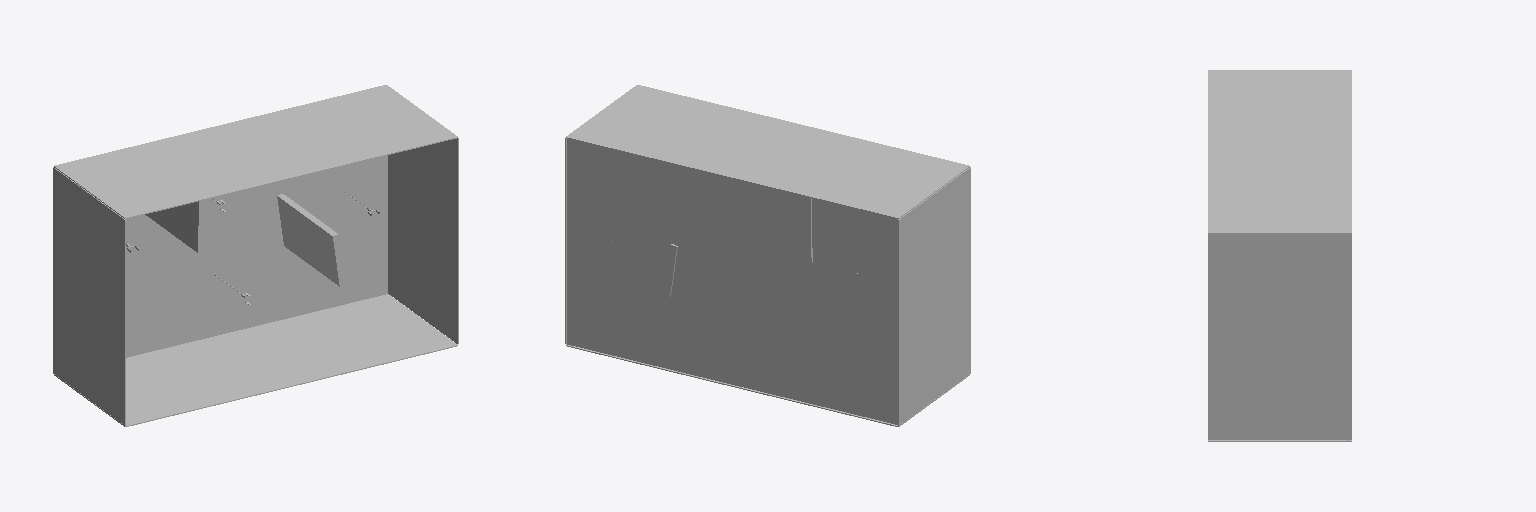
Rendered from LAAS_indoor_rings_gaz.obj.
3 renders of one model, left to right at view 1: azimuth 30°, elevation 25°; view 2: azimuth 150°, elevation 25°; view 3: azimuth 270°, elevation 25°, orthographic.
Parts seen in each view (by area): view 1: Cube_Cube.007, Wall3_Cube.004, Wall4_Cube.005, Wall2_Cube.003, Wall2.001_Cube.006, Obsatcle2_Cube.010, Obsatcle1_Cube; view 2: Cube_Cube.007, Wall3_Cube.004, Wall2_Cube.003, Wall4_Cube.005; view 3: Wall2.001_Cube.006, Wall3_Cube.004.
Part boxes in pixels (x1,y1,x2,y2): Cube_Cube.007: (126,155,387,357); Wall3_Cube.004: (54,85,457,218); Wall4_Cube.005: (54,294,457,426); Wall2_Cube.003: (53,167,125,425); Wall2.001_Cube.006: (388,138,458,343); Obsatcle2_Cube.010: (277,194,345,286); Obsatcle1_Cube: (145,200,203,252); Cube_Cube.007: (567,139,897,424); Wall3_Cube.004: (566,85,969,218); Wall2_Cube.003: (898,167,970,425); Wall4_Cube.005: (566,344,969,426); Wall2.001_Cube.006: (1208,234,1351,439); Wall3_Cube.004: (1208,70,1351,233).
Bounding box in the file's own units: 6.72 × 4.02 × 2.5.